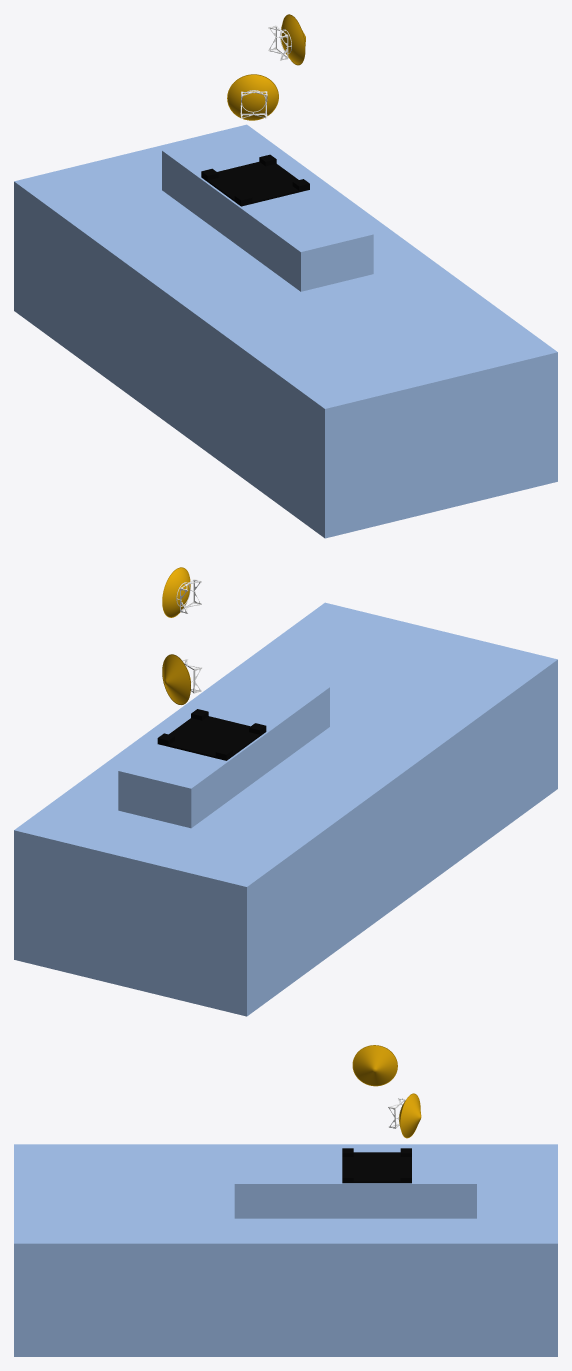
File: 安波ダム.glb
3 views of the same model, one above another, from view 1: azimuth 30°, elevation 25°; view 2: azimuth 150°, elevation 25°; view 3: azimuth 270°, elevation 25° (orthographic). The views are drawn at different scales.
Visible parts, largest first — view 1: group_3, group_2, group_4, group_35.004, group_35; view 2: group_3, group_2, group_4, group_35.004, group_35; view 3: group_3, group_2, group_4, group_35, group_35.004.
Boxes of the visible parts, x1=… form: group_3: x1=14, y1=124, x2=557, y2=538; group_2: x1=162, y1=133, x2=373, y2=291; group_4: x1=207, y1=162, x2=298, y2=203; group_35.004: x1=228, y1=75, x2=278, y2=119; group_35: x1=281, y1=15, x2=305, y2=64; group_3: x1=14, y1=602, x2=557, y2=1016; group_2: x1=118, y1=669, x2=329, y2=828; group_4: x1=168, y1=716, x2=259, y2=758; group_35.004: x1=162, y1=655, x2=190, y2=704; group_35: x1=162, y1=568, x2=190, y2=617; group_3: x1=14, y1=1144, x2=557, y2=1356; group_2: x1=234, y1=1153, x2=476, y2=1218; group_4: x1=342, y1=1152, x2=411, y2=1183; group_35: x1=353, y1=1045, x2=397, y2=1085; group_35.004: x1=399, y1=1094, x2=421, y2=1137.
Bounding box in the file's own units: 16 × 21.54 × 37.
